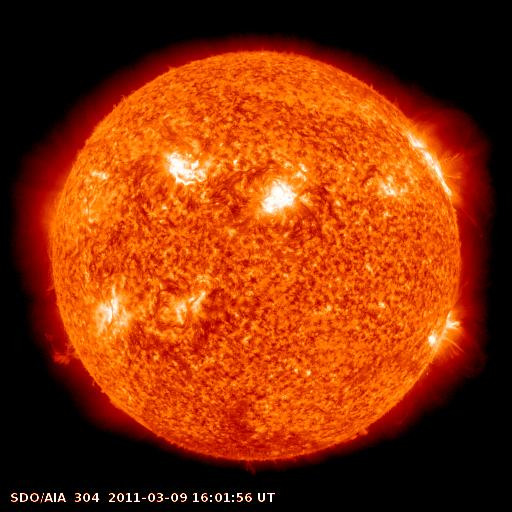prominence: (34, 322, 86, 373)
